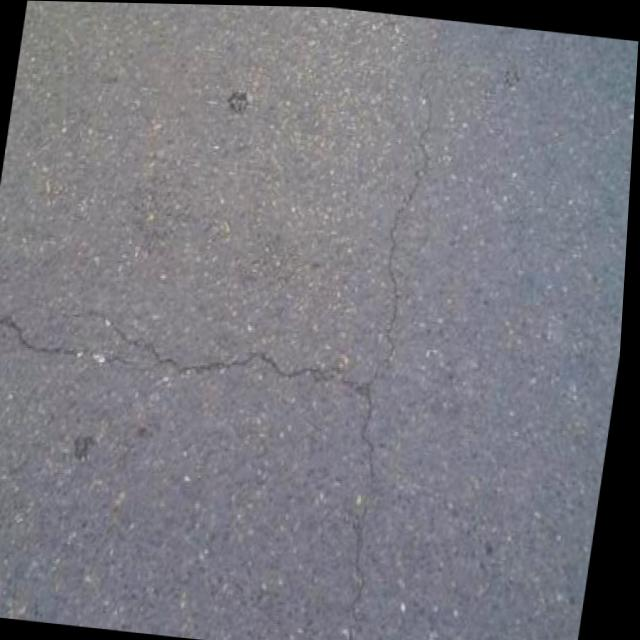Crack: (324, 12, 470, 640), (0, 292, 370, 424)
